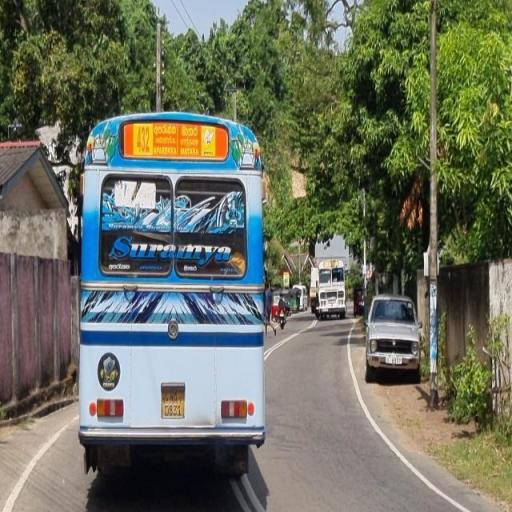double_white_line: (341, 322, 472, 510), (176, 188, 246, 234)
